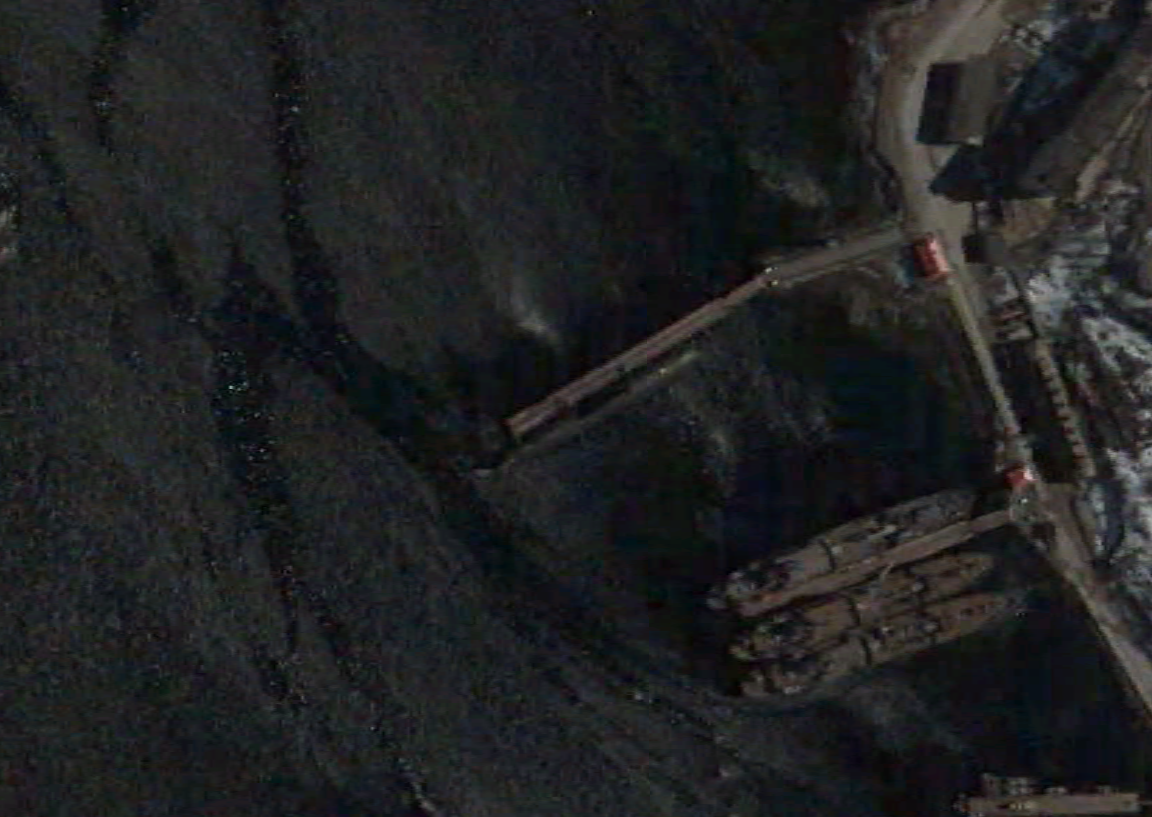merchant ship: (703, 487, 973, 611), (741, 591, 1015, 699), (727, 551, 992, 660)
submarine: (482, 350, 694, 473)
